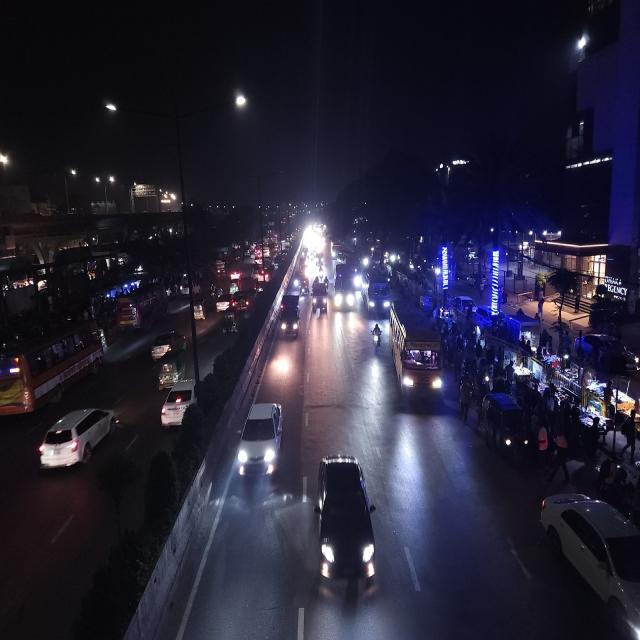bus: (0, 320, 106, 414), (386, 296, 446, 411), (118, 285, 166, 334), (364, 261, 391, 319), (332, 268, 357, 316)
car: (537, 484, 640, 640), (313, 449, 379, 604), (35, 400, 121, 478), (235, 396, 286, 486), (158, 376, 201, 431), (149, 328, 187, 362), (310, 283, 329, 317), (233, 290, 253, 312), (216, 291, 232, 312)
cng: (157, 349, 187, 387), (220, 308, 240, 338), (190, 298, 208, 323)
motorcycle: (369, 320, 383, 357)
pedestrian: (552, 432, 572, 473), (534, 423, 552, 468)
truck: (277, 291, 302, 342)
